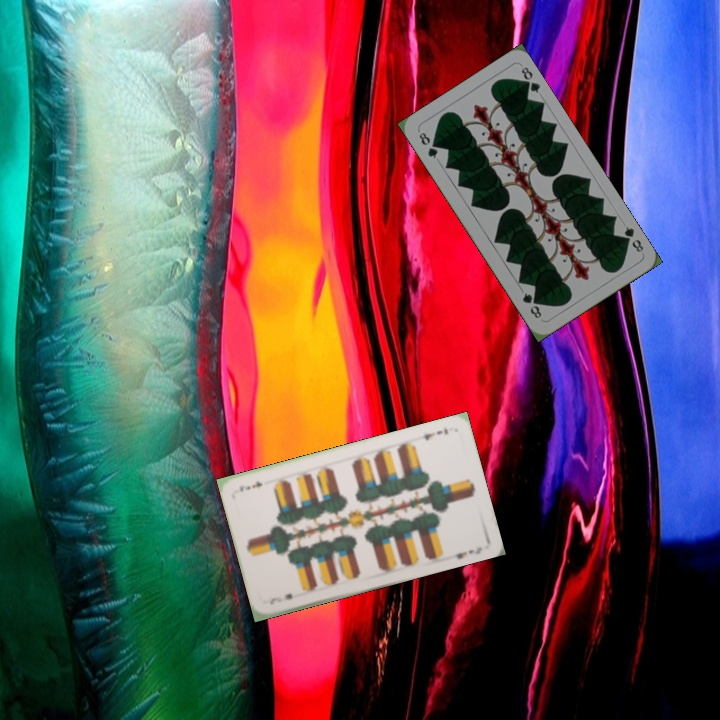E7: (420, 424, 451, 443), (265, 589, 295, 607)
G8: (617, 222, 646, 255), (415, 128, 441, 161)
